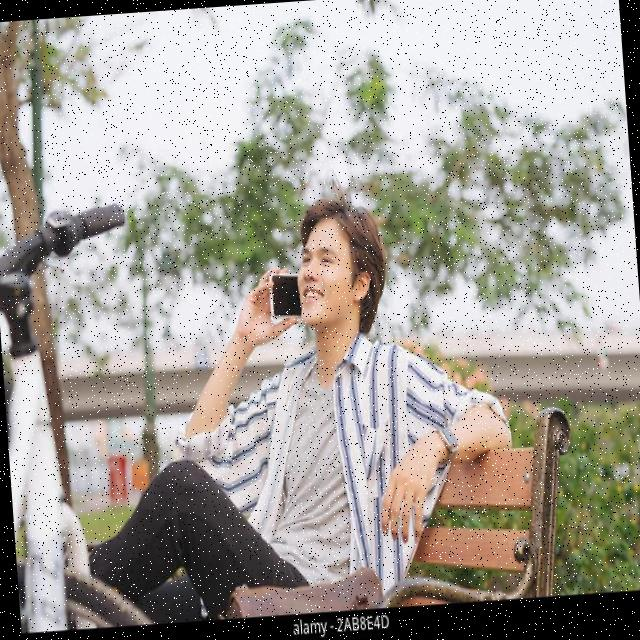Using mobile: (241, 188, 418, 378)
